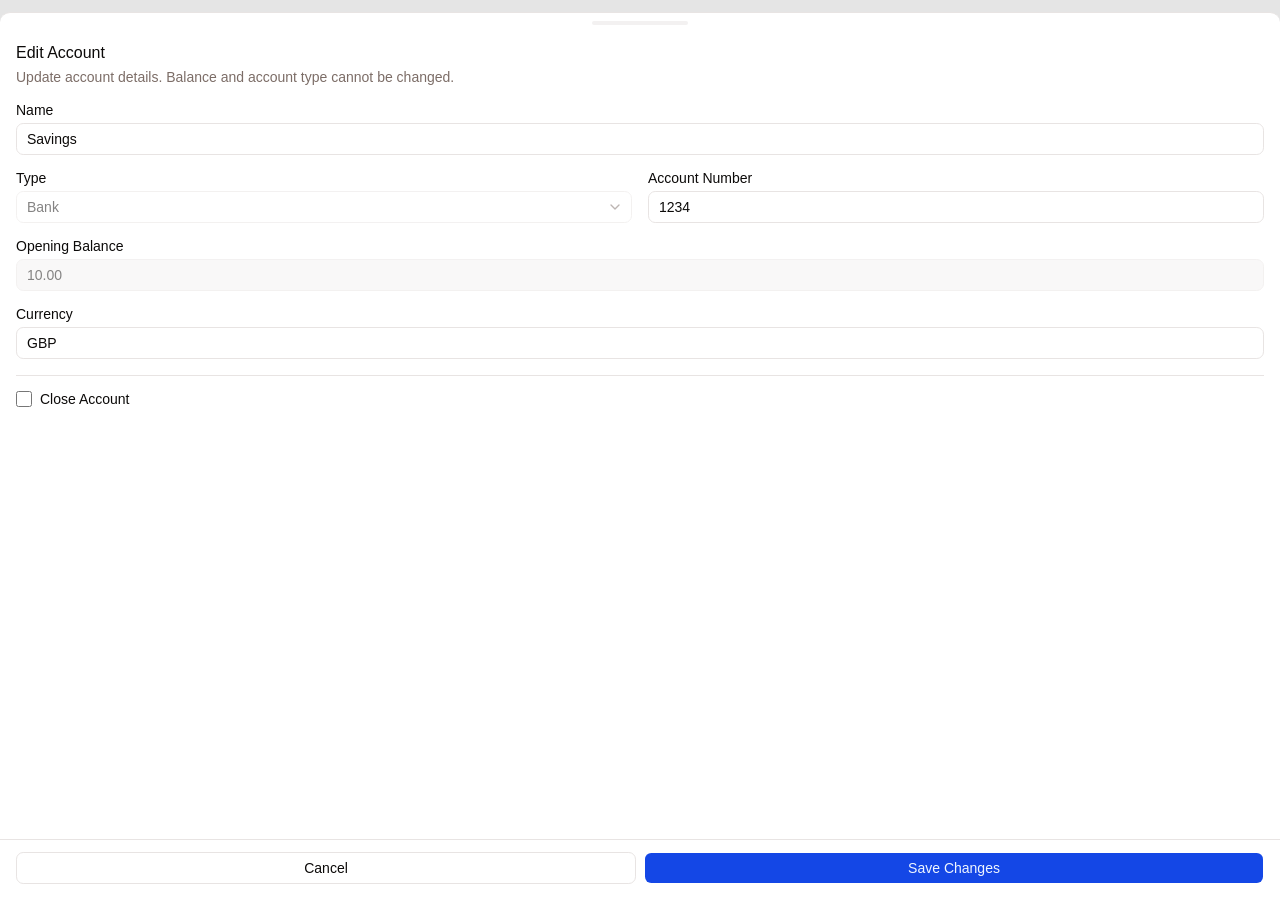
Test: AccountForm › keeps the draft and shows an error when saving fails
Step 1. Replace the text in the field labelled "Name" with "Rainy day" → (640, 139), box [16,123,1264,155]
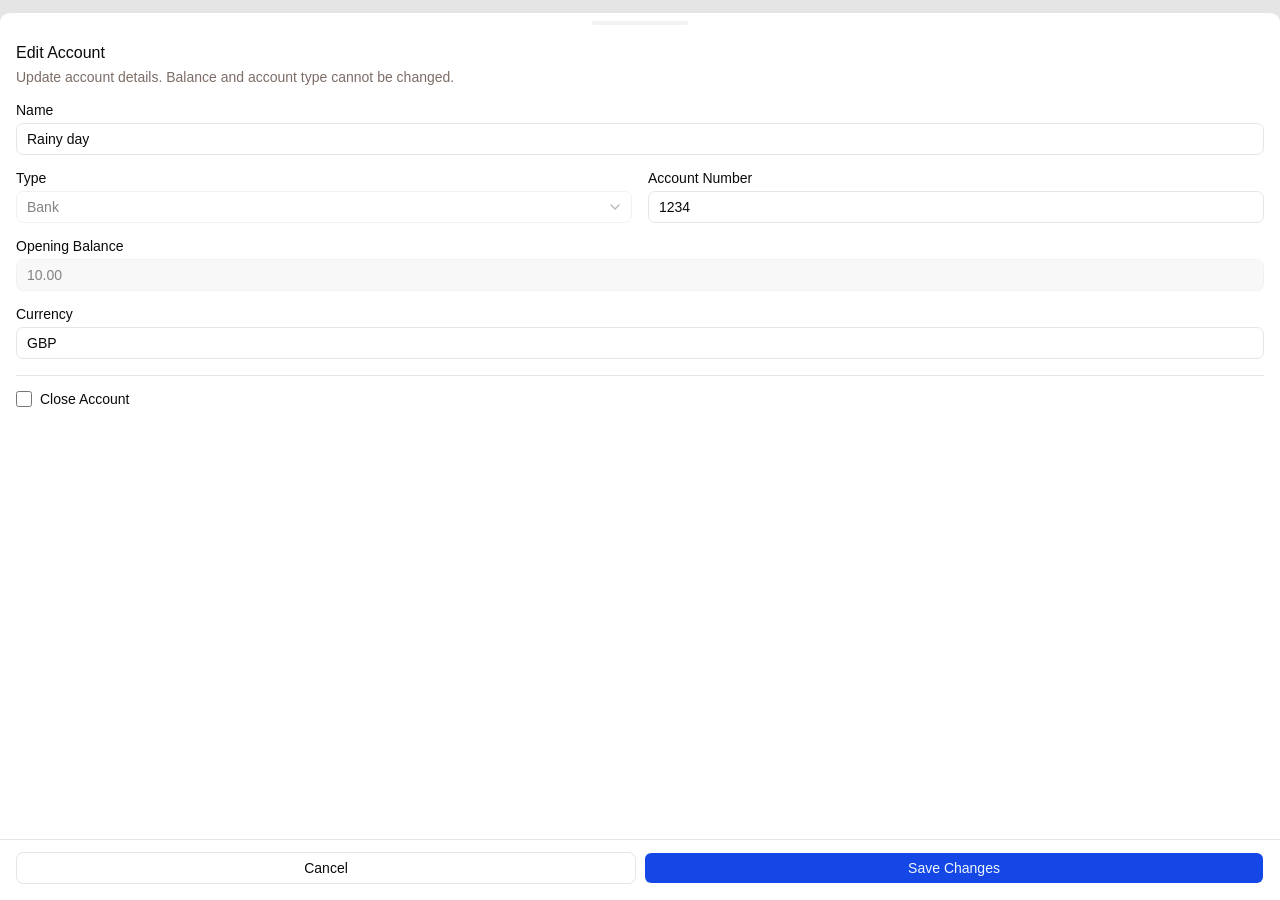
Step 2. Click the button "Save Changes" → (954, 868), box [644,852,1264,884]
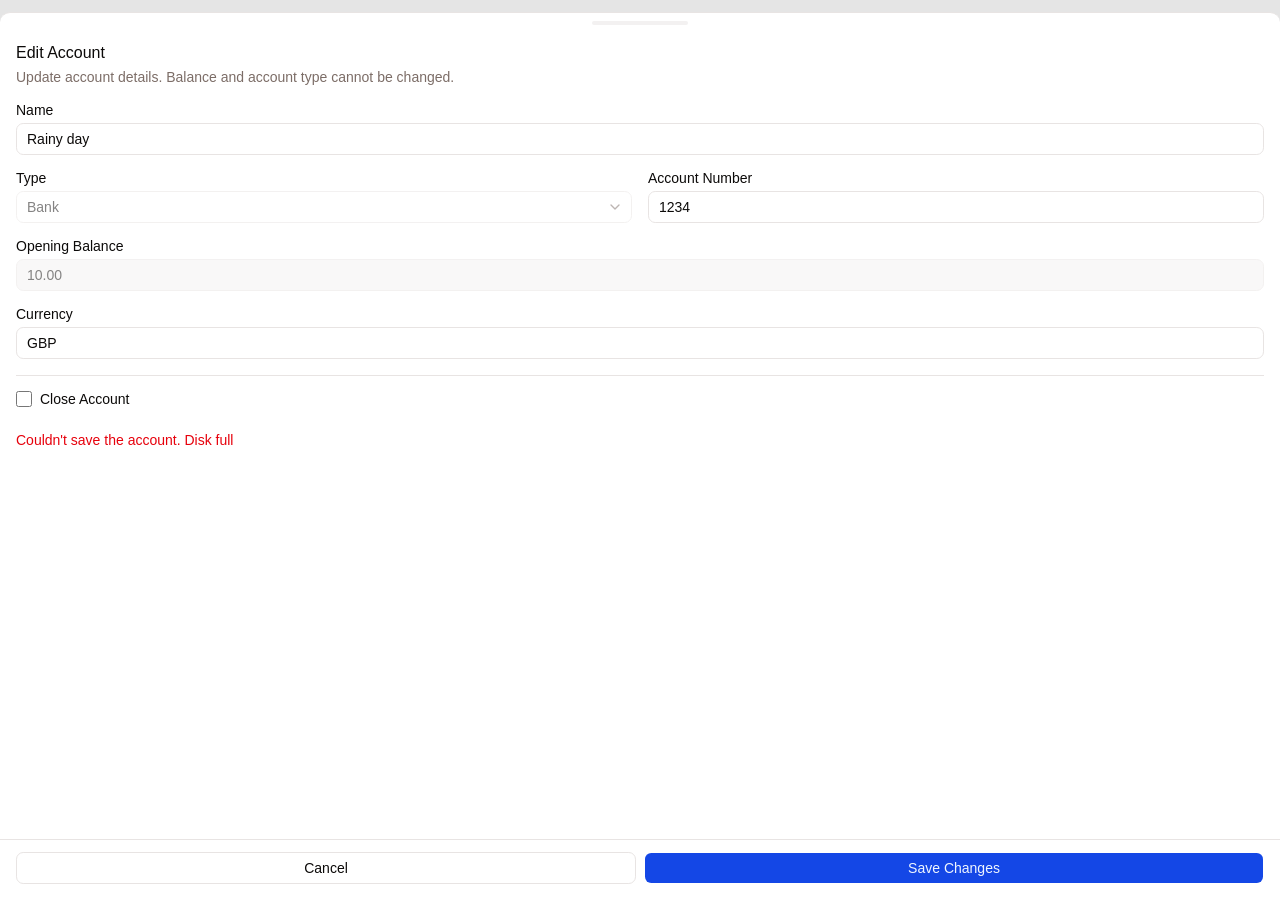
Check: the message reads "Couldn't save the account. Disk full", box [16,432,234,448]
